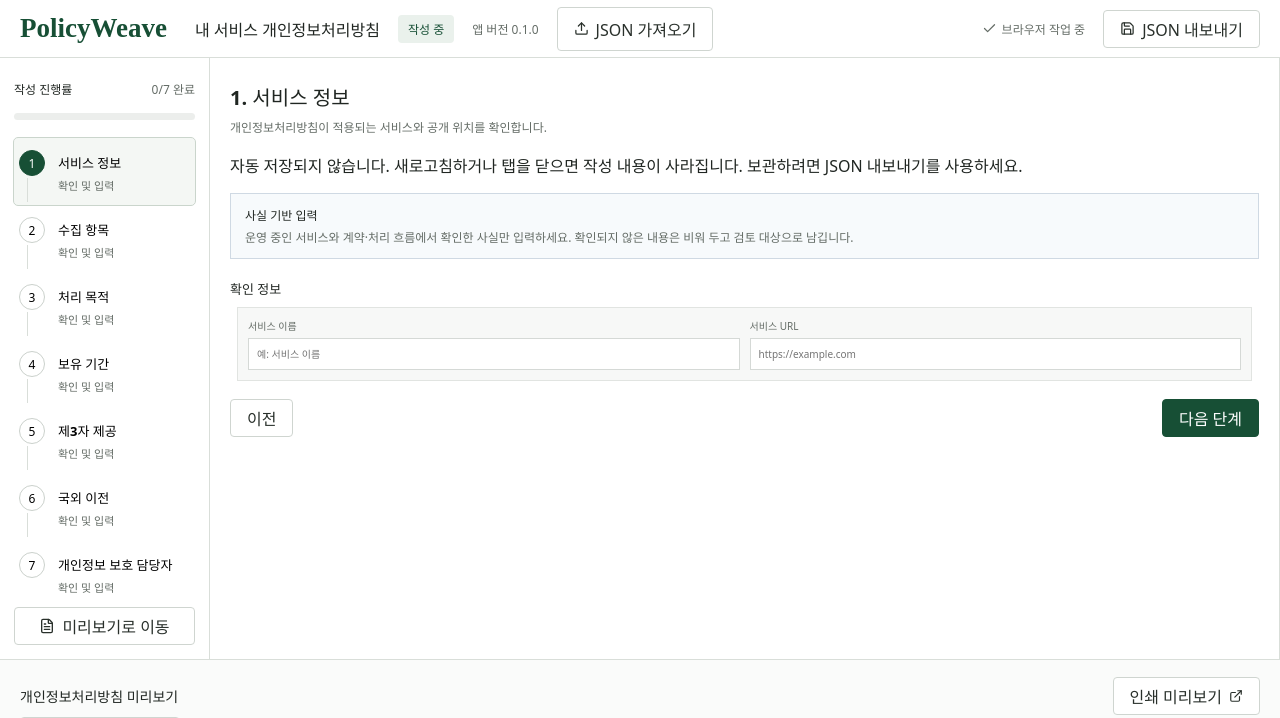
policy editing workflow › 수집 단계에서는 선택 항목의 수집 경로와 수집 구분을 명시적으로 확인하고 처리 목적은 다음 단계에서 편집한다
This screenshot has width=1280, height=718.
Click the button "2 수집 항목 확인 및 입력".
click(104, 238)  # box [14,205,195,272]
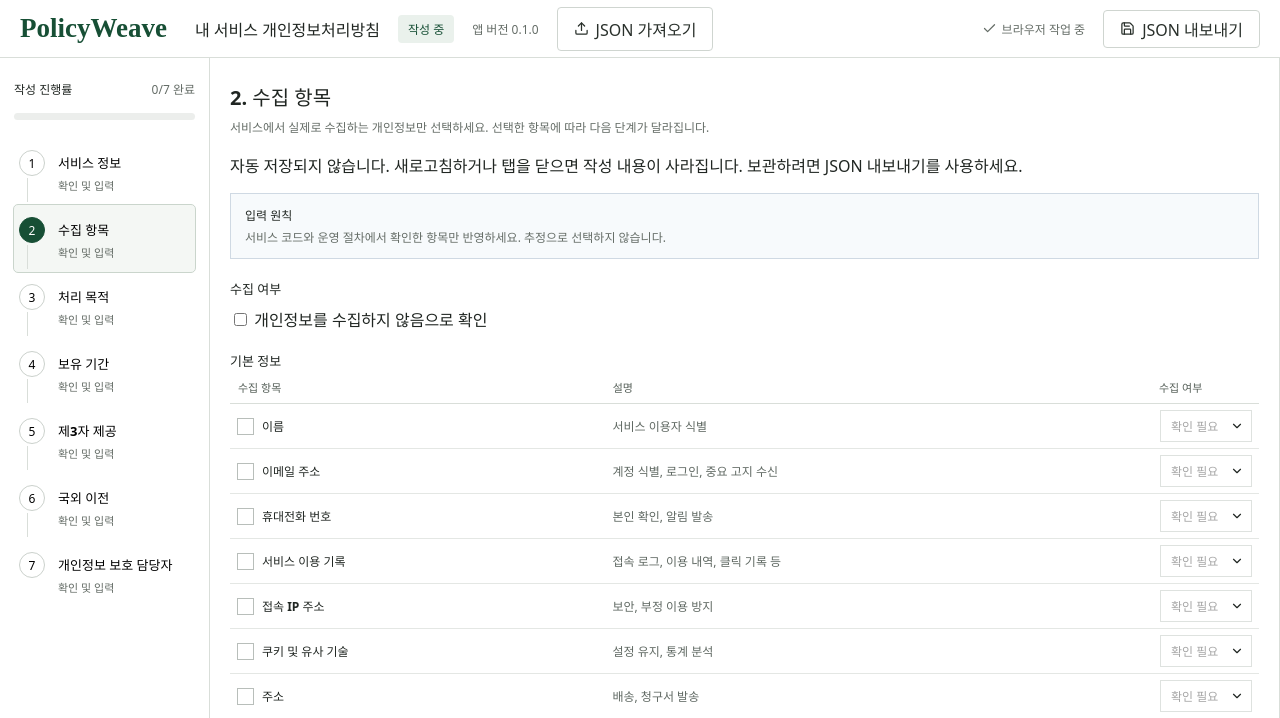
Click the checkbox labelled "휴대전화 번호".
click(284, 516)  # box [237,508,331,525]
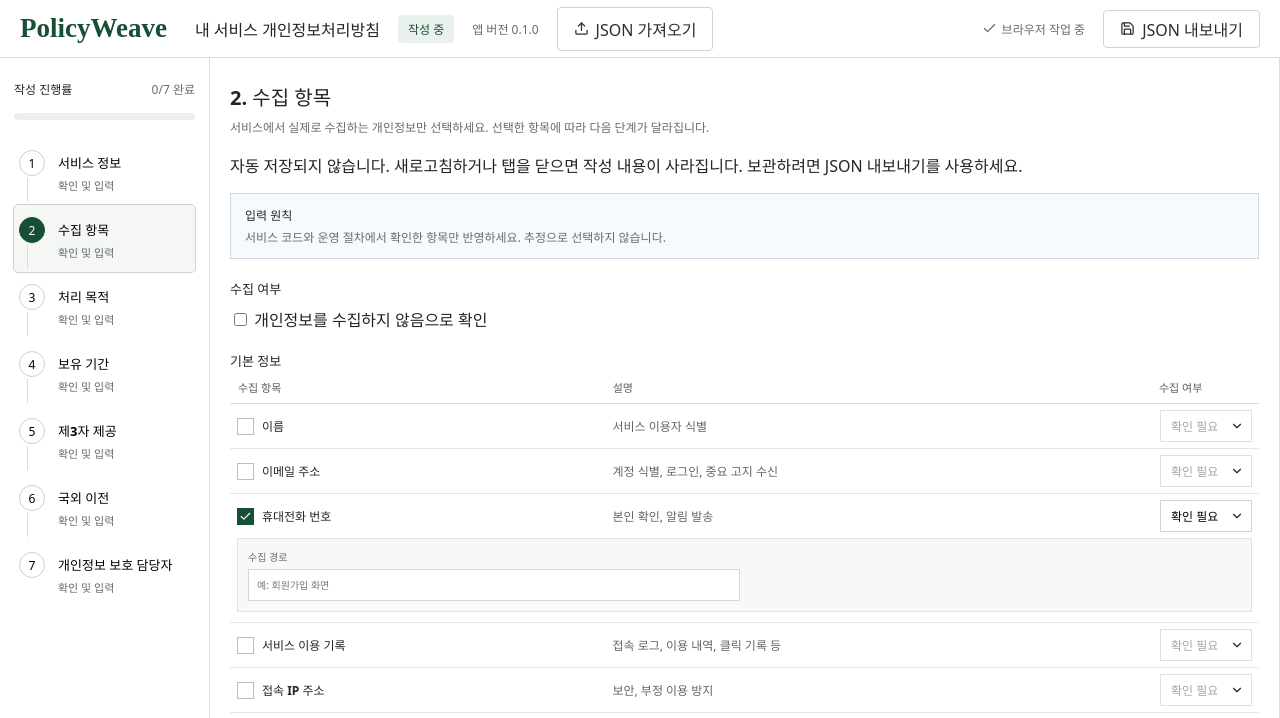
Result: the dropdown in the row of "본인 확인, 알림 발송" shows "확인 필요"
Result: the number of fields with placeholder "예: 회원가입 화면" is 1 at [248,569,740,601]
Select "필수" in the dropdown in the row of "본인 확인, 알림 발송" at (1206, 516), box [1160,500,1252,532]
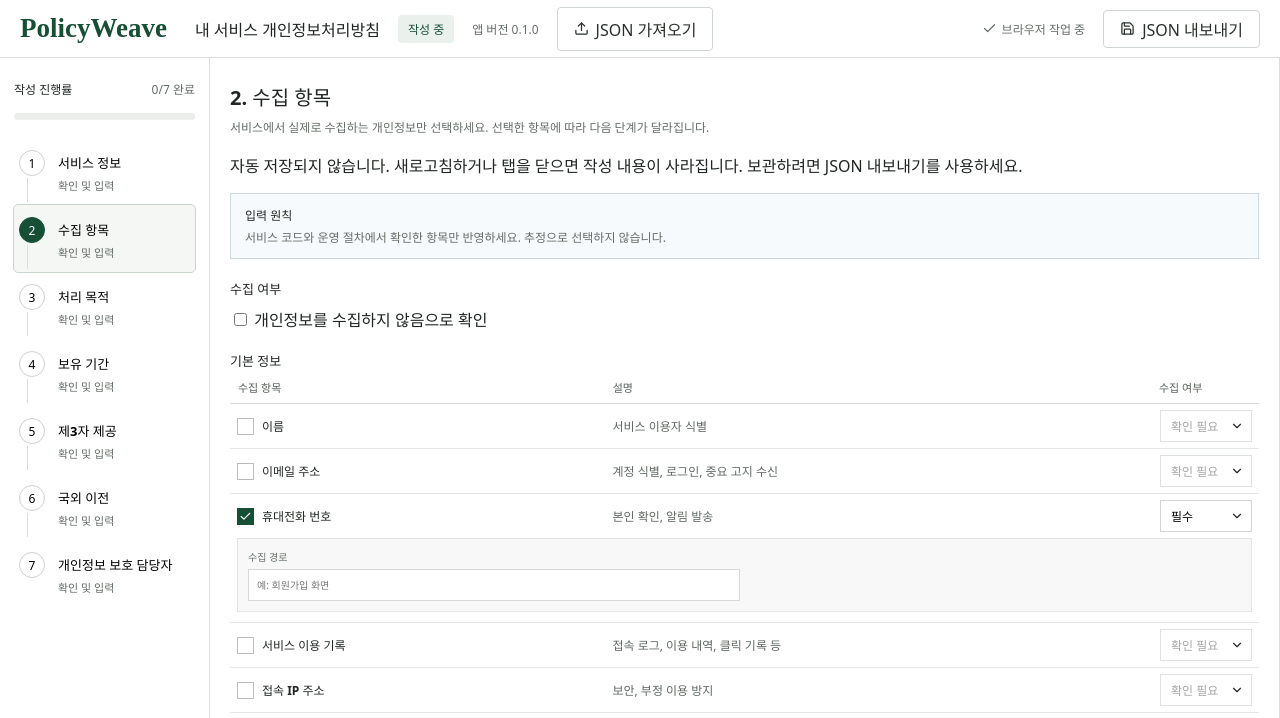
Click the button "3 처리 목적 확인 및 입력".
click(104, 306)  # box [14,272,195,339]
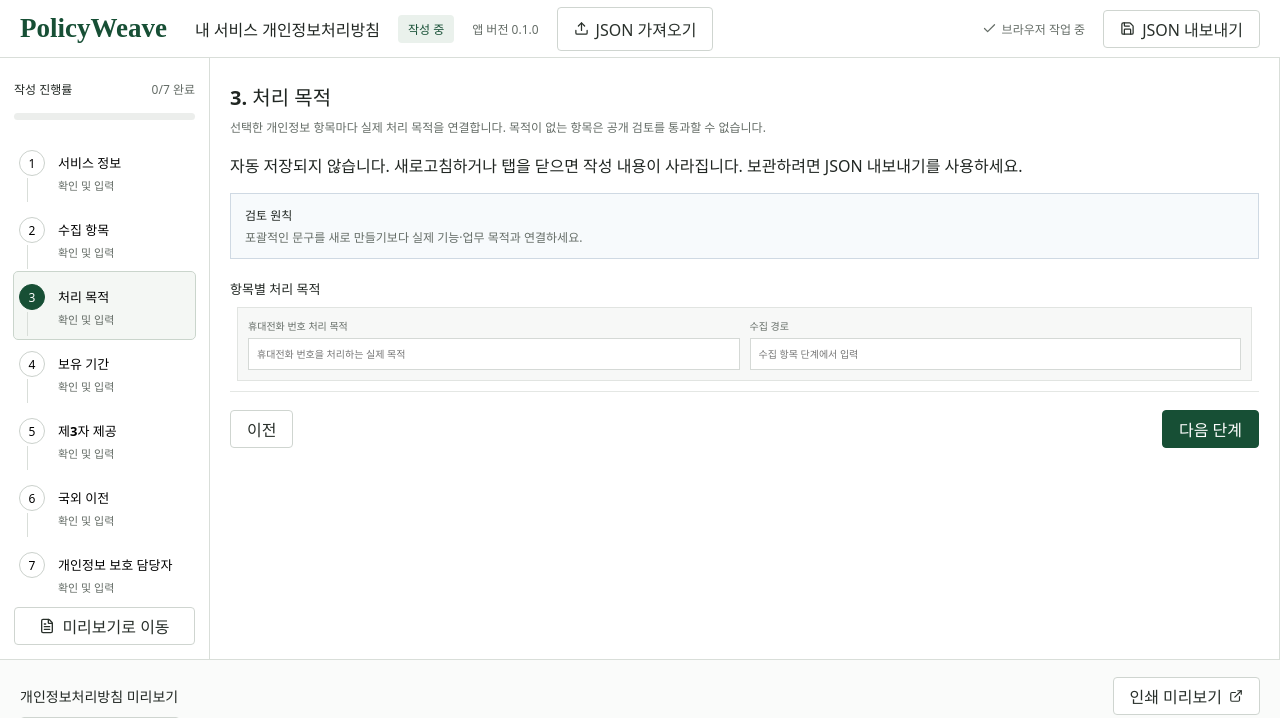
Result: the field named "purpose-phone" is shown at [248,338,740,370]
